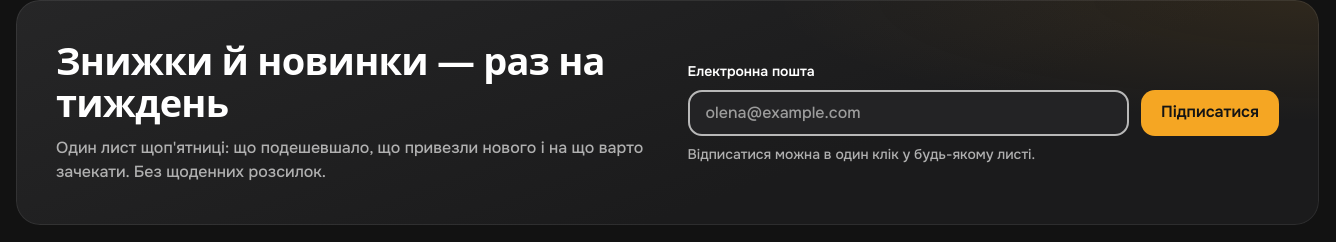
it: Newsletter › для порожнього поля пояснює, що ввести, і не викликає onSubmit
The width and height of the screenshot is (1336, 242).
What coordinates should you click on to do the following:
click the button "Підписатися"
I would click on:
 (1210, 113)
Its box is [1141,90,1279,136].
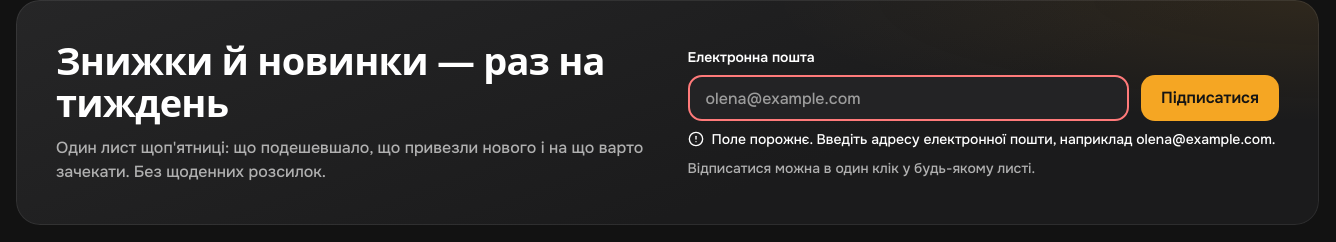
Check: the field labelled "Електронна пошта" is marked as invalid, box [688,75,1129,121]
